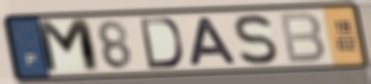8: (96, 19, 134, 70)
A: (188, 16, 241, 68)
B: (276, 10, 328, 65)
D: (137, 17, 185, 71)
M: (33, 17, 105, 76)
S: (233, 12, 280, 67)
